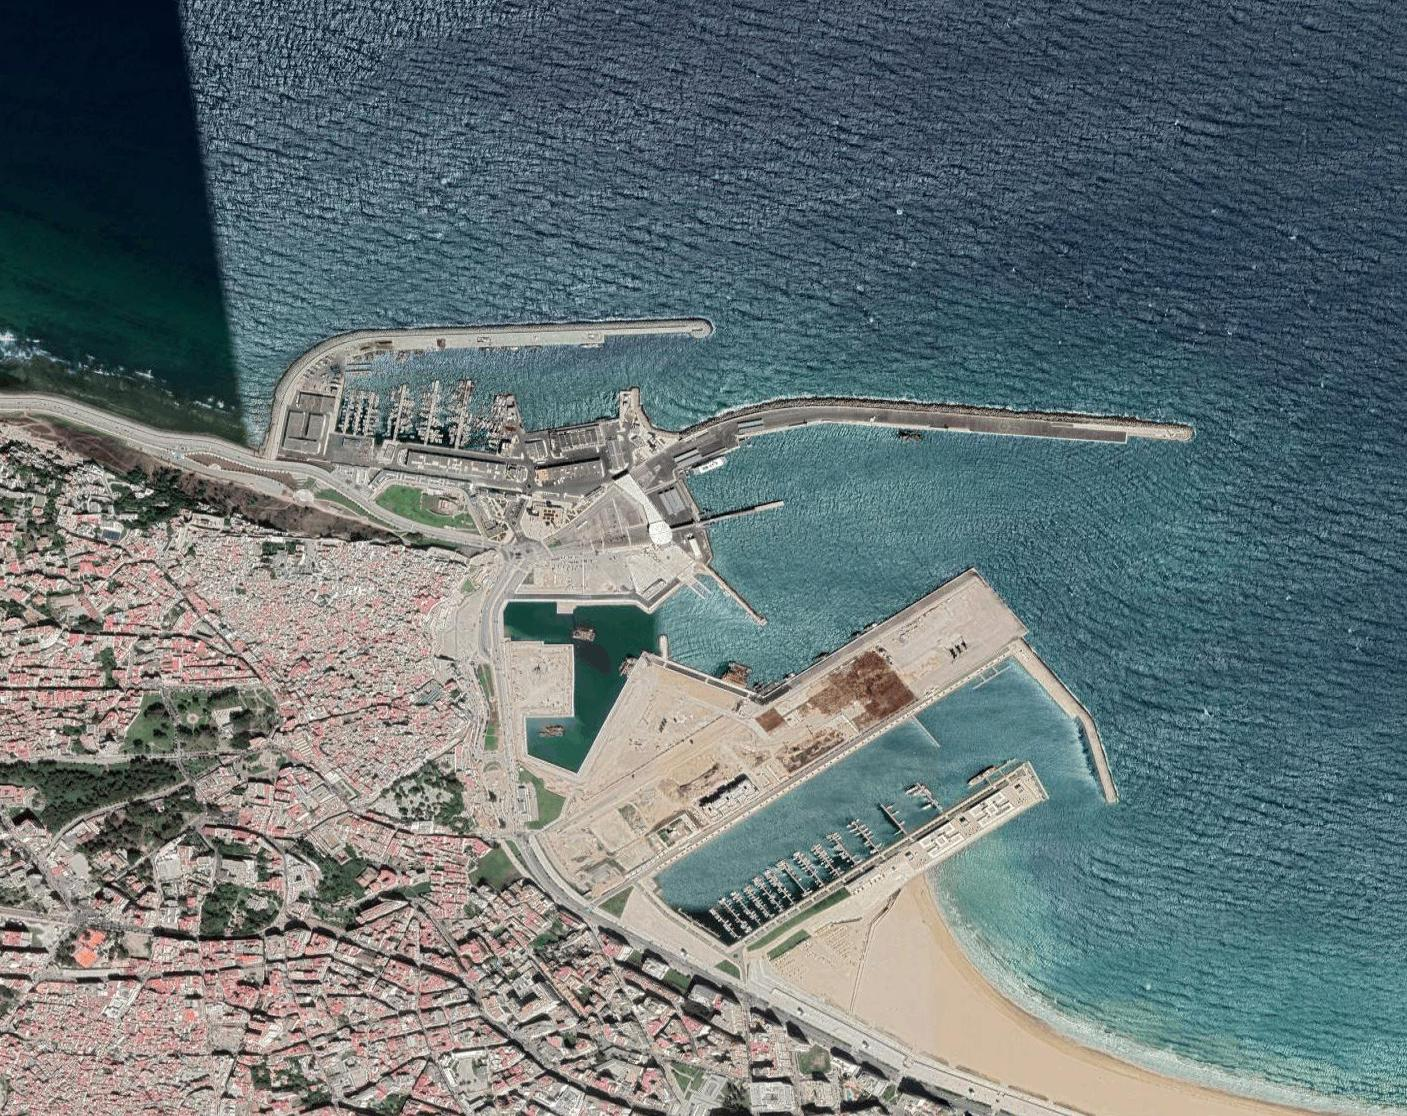harbor: (256, 289, 1245, 589), (518, 561, 1143, 961)
